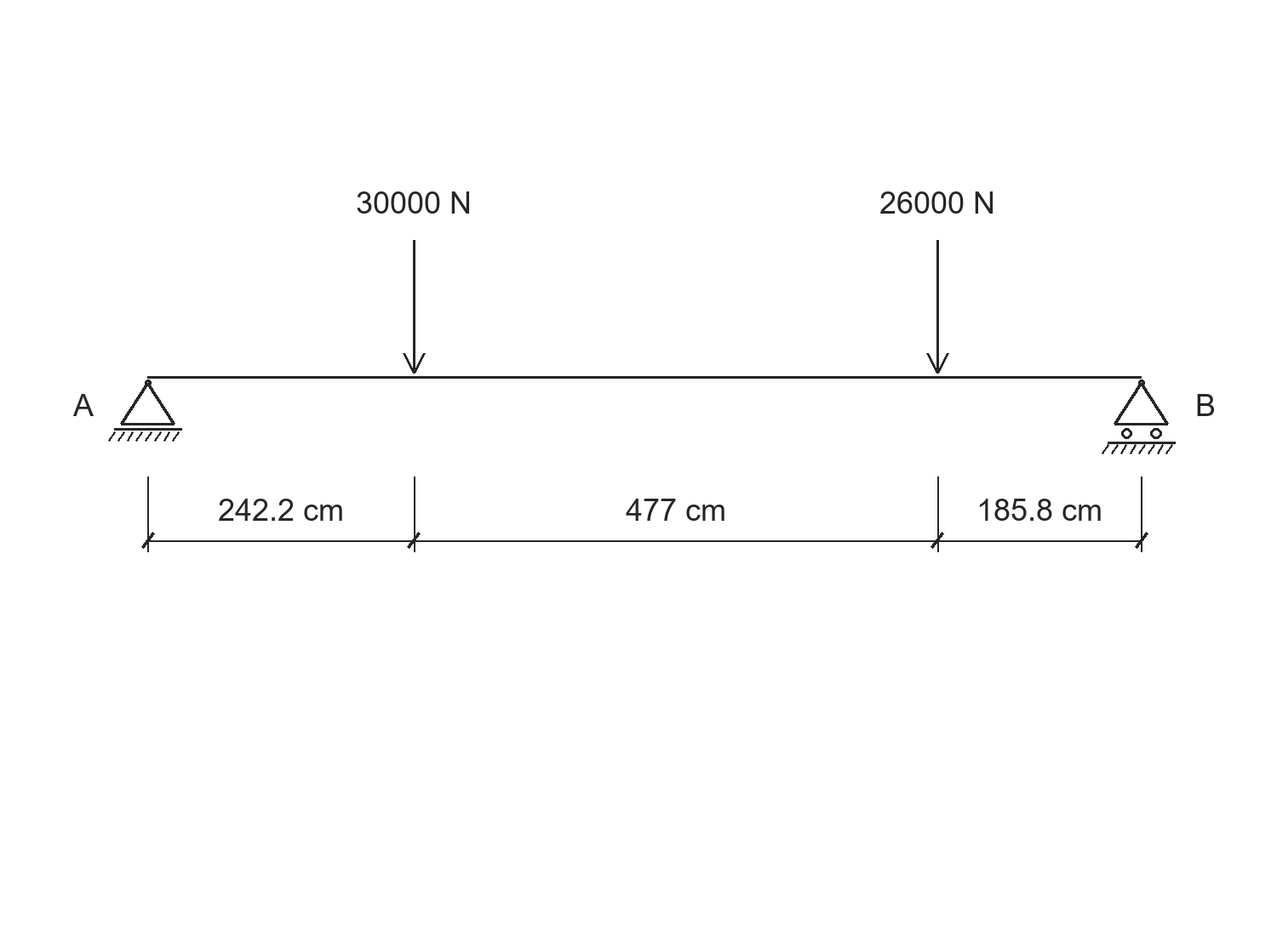pin_support: (108, 380, 182, 442)
point_load: (403, 240, 426, 374), (926, 240, 949, 374)
roller_support: (1102, 380, 1176, 454)
